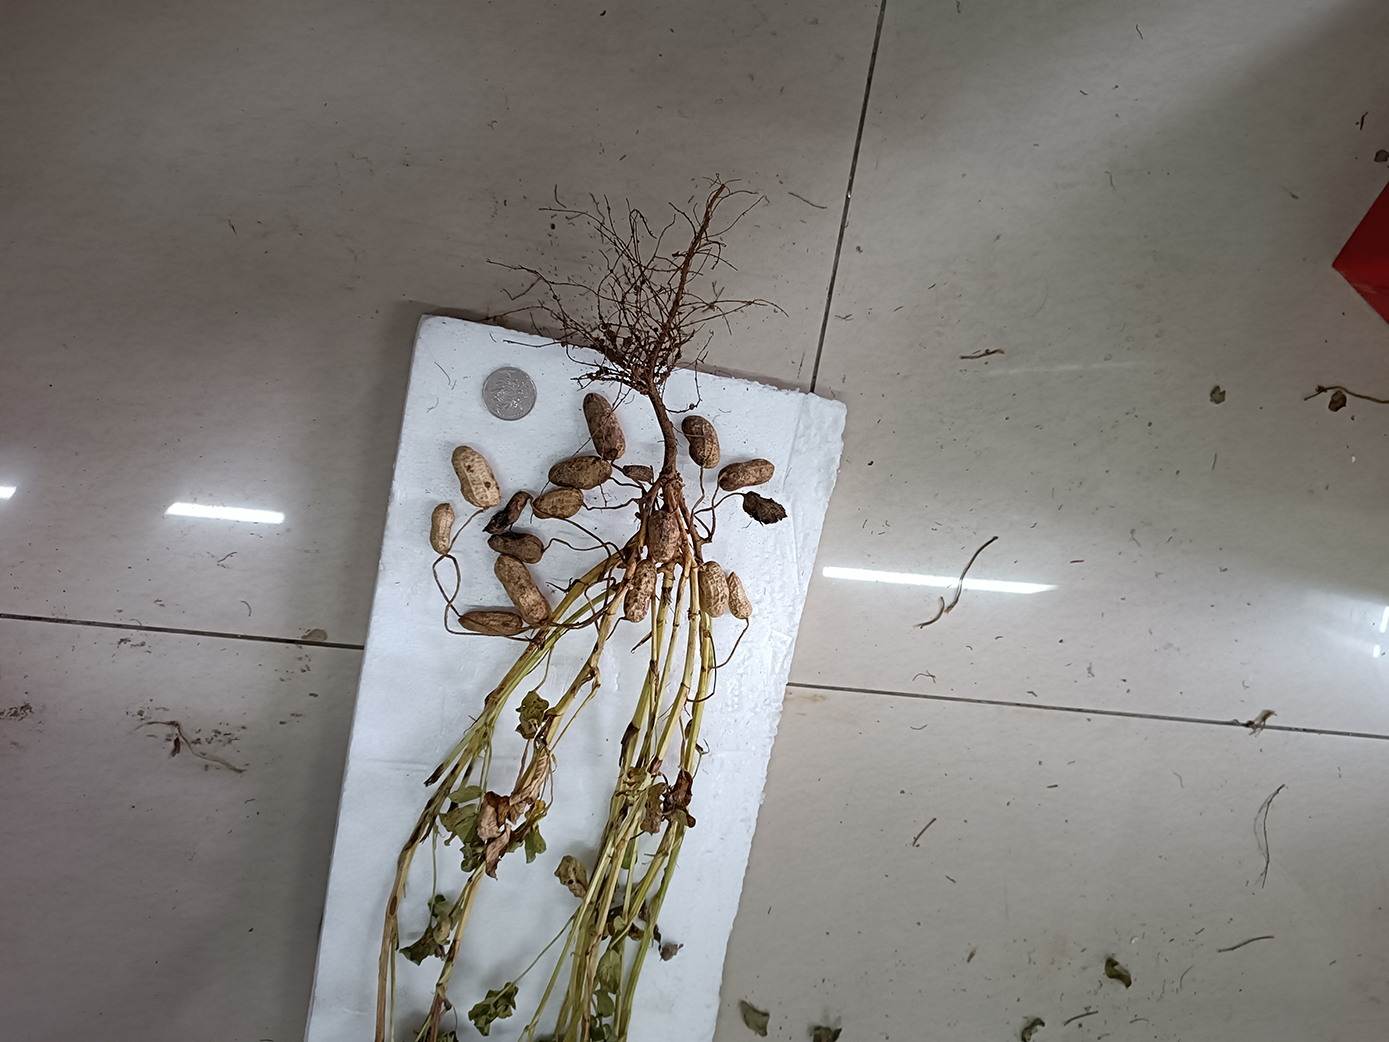h: (494, 553, 551, 625), (452, 445, 501, 508), (681, 415, 721, 468), (698, 561, 729, 618), (533, 488, 584, 520), (647, 510, 678, 563), (430, 502, 455, 556), (727, 571, 753, 620)
l: (583, 392, 626, 460), (549, 455, 612, 490), (624, 559, 657, 624), (483, 491, 531, 534), (718, 458, 775, 491), (486, 532, 543, 564), (741, 490, 788, 526), (458, 611, 523, 636), (621, 464, 653, 482)
